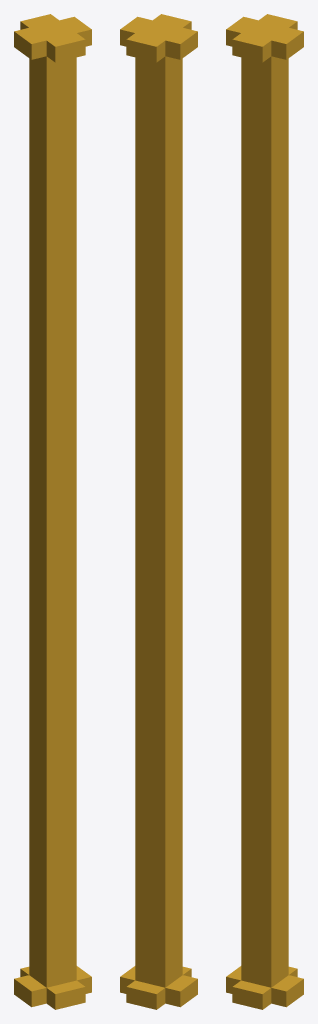
The model's file is grab_pole_short.glb.
3 views of the same model, side by side, from view 1: azimuth 30°, elevation 25°; view 2: azimuth 150°, elevation 25°; view 3: azimuth 330°, elevation 25° (orthographic).
Visible parts, largest first — view 1: body:compound; view 2: body:compound; view 3: body:compound.
Part boxes in pixels (bbox=[...]): body:compound: bbox=[14, 14, 91, 1009]; body:compound: bbox=[120, 14, 197, 1009]; body:compound: bbox=[226, 14, 303, 1009].
Size of the model in its own units: 0.125 by 1.91 by 0.125.
